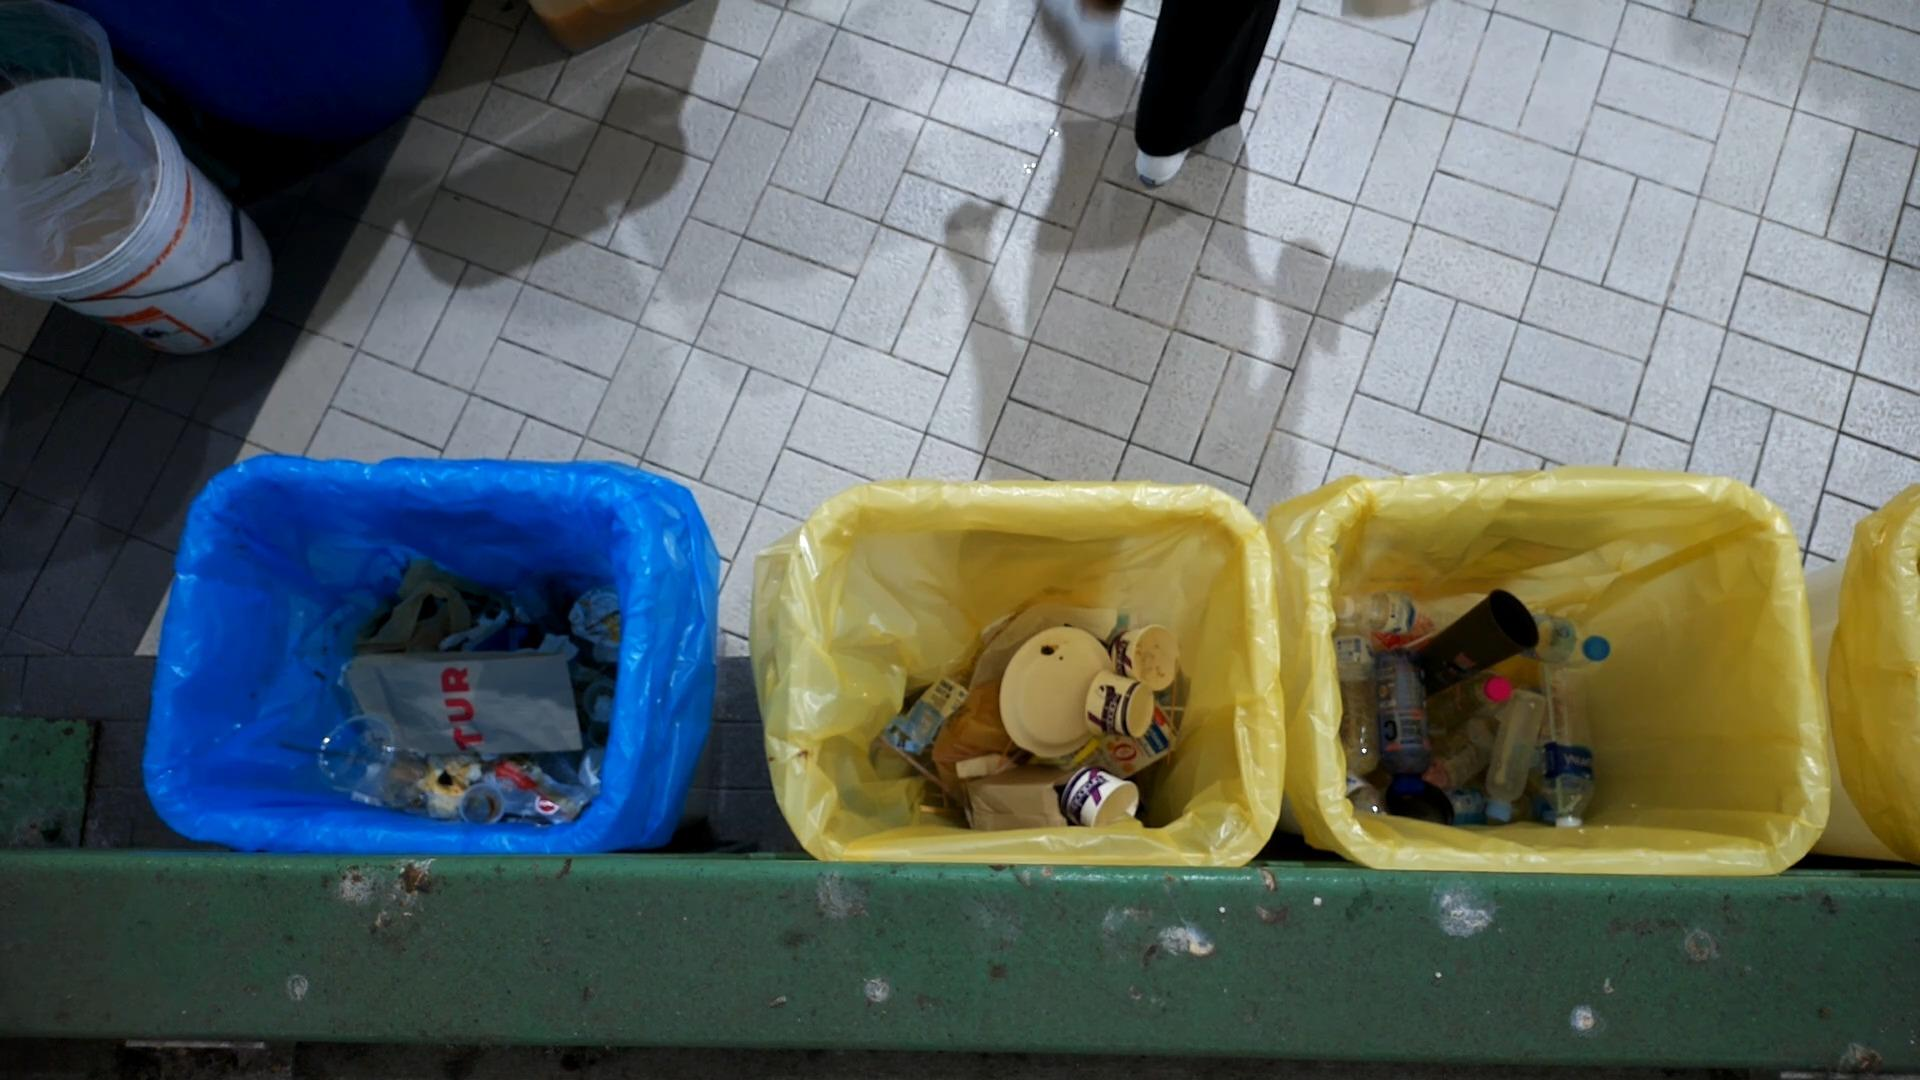filled plastic bag: (344, 552, 514, 646)
food container: (995, 623, 1122, 762), (1077, 666, 1160, 748), (1110, 623, 1186, 697), (1061, 763, 1142, 826), (452, 777, 510, 828)
milk carton: (880, 671, 974, 769), (1099, 700, 1180, 786)
paper bag: (316, 605, 594, 772), (956, 763, 1083, 833)
plastic bottle: (1531, 648, 1600, 832), (1371, 648, 1435, 797), (1332, 611, 1387, 784), (1483, 684, 1546, 825), (1333, 581, 1464, 643), (1521, 607, 1615, 671)
plastic cup: (1417, 584, 1546, 703), (313, 712, 433, 811), (315, 711, 399, 796), (1375, 775, 1460, 830)
straw: (1539, 656, 1599, 819), (883, 737, 957, 797), (277, 739, 401, 771), (1165, 655, 1179, 763), (1156, 700, 1187, 713)
tissue paper: (553, 741, 610, 798), (949, 748, 1025, 784), (586, 695, 616, 726)
